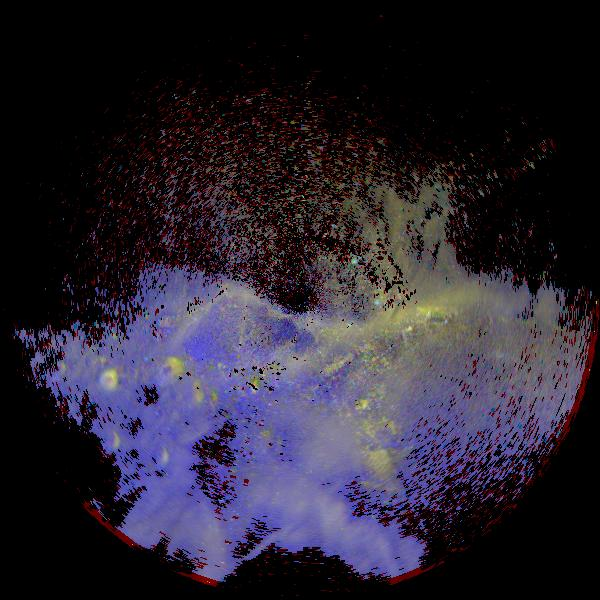roost: (93, 424, 123, 454), (156, 357, 183, 384), (178, 380, 205, 407), (151, 445, 172, 466), (101, 372, 119, 390)
